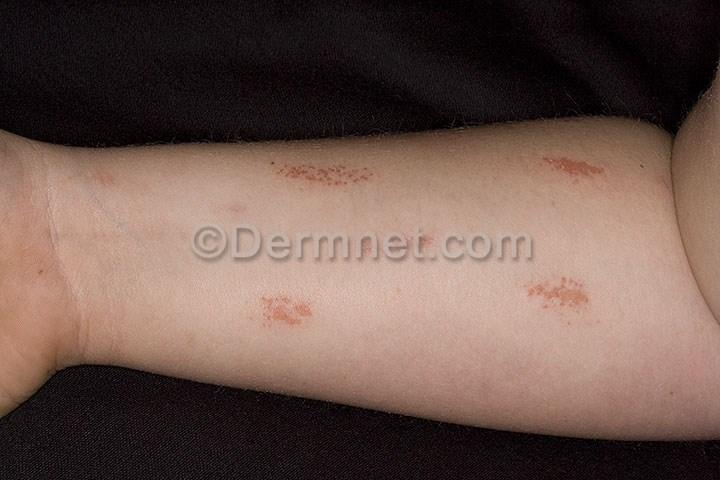Eczema: (512, 270, 617, 330), (326, 226, 451, 273), (253, 152, 397, 191), (536, 138, 634, 193), (246, 280, 330, 343), (79, 164, 142, 194), (213, 197, 264, 218)
